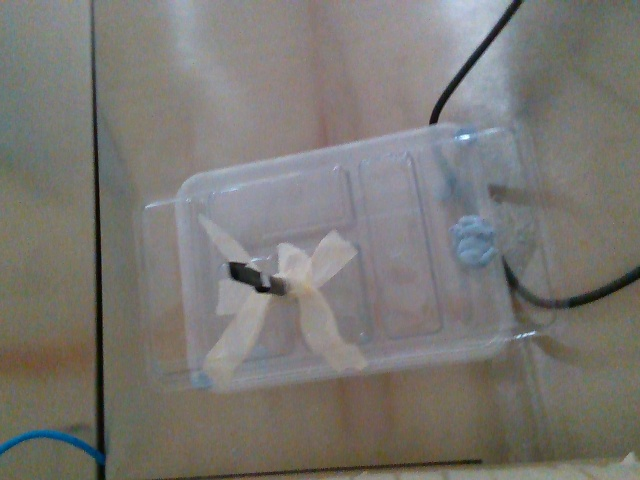test_strip: (225, 260, 268, 293)
